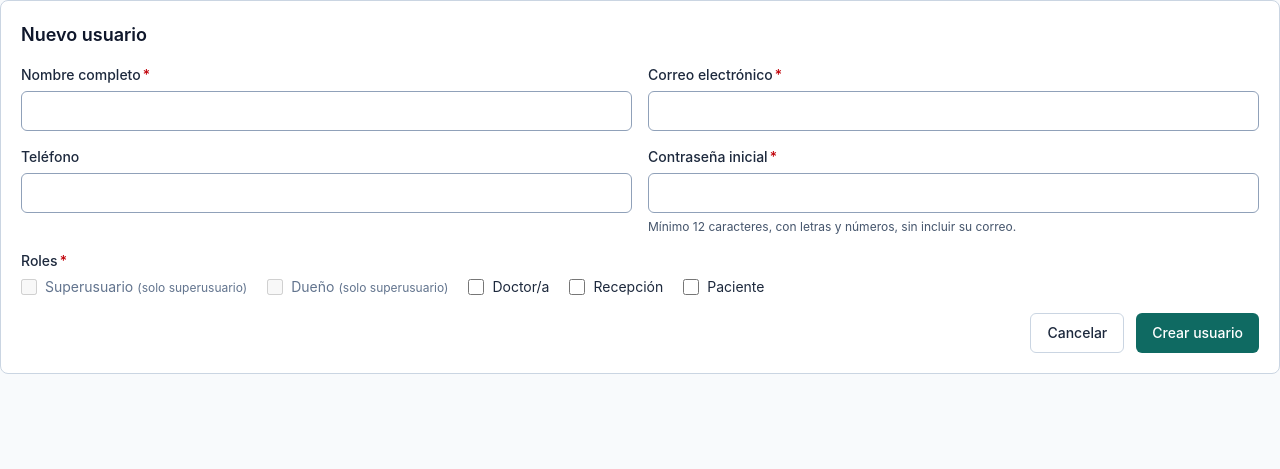
Scenario: UserCreateForm › valida en español: campos vacíos, rol, contraseña débil
Type "corta" into the password field labelled "Contraseña inicial*". click: point(954, 193)
box: [648,173,1259,213]
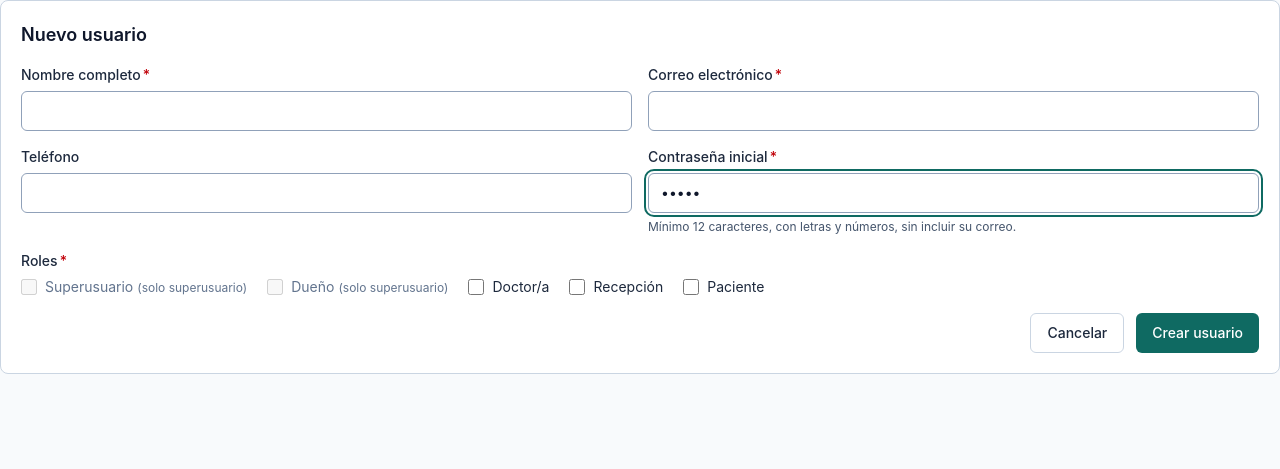
Click the button "Crear usuario". click: point(1198, 333)
box: [1136,313,1259,353]
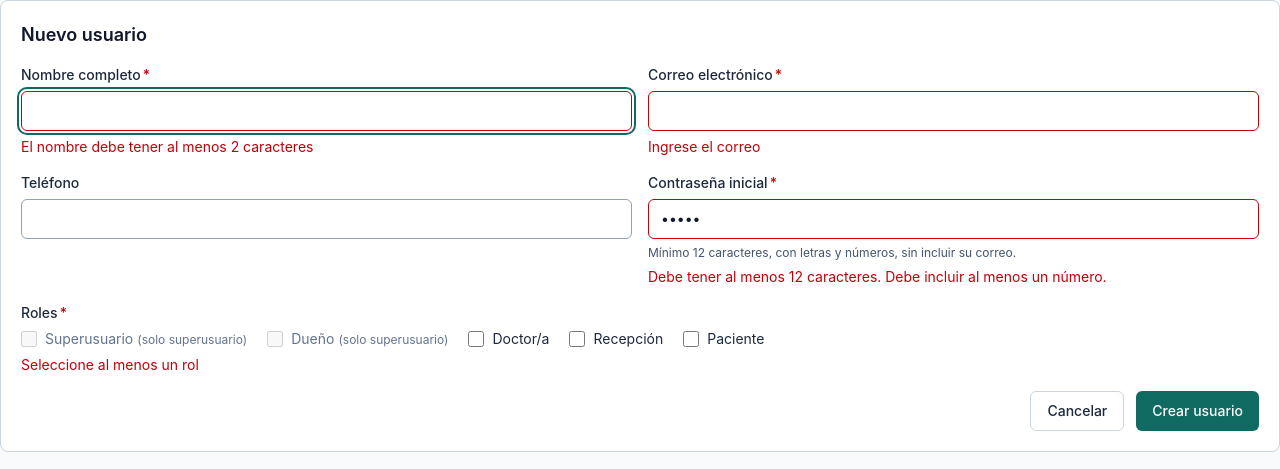
Now the text "Ingrese el correo" is shown, box [648,138,760,155]
Now the text "Seleccione al menos un rol" is shown, box [21,356,199,373]
Now the text "Debe tener al menos 12 caracteres" is shown, box [648,268,1107,285]
